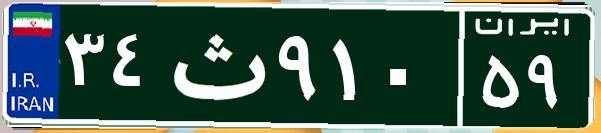0: (385, 28, 445, 110)
1: (330, 28, 385, 110)
3: (57, 26, 110, 107)
4: (110, 28, 158, 105)
5: (475, 38, 525, 113)
9: (273, 28, 330, 110), (525, 38, 570, 115)
ث: (158, 15, 273, 115)
